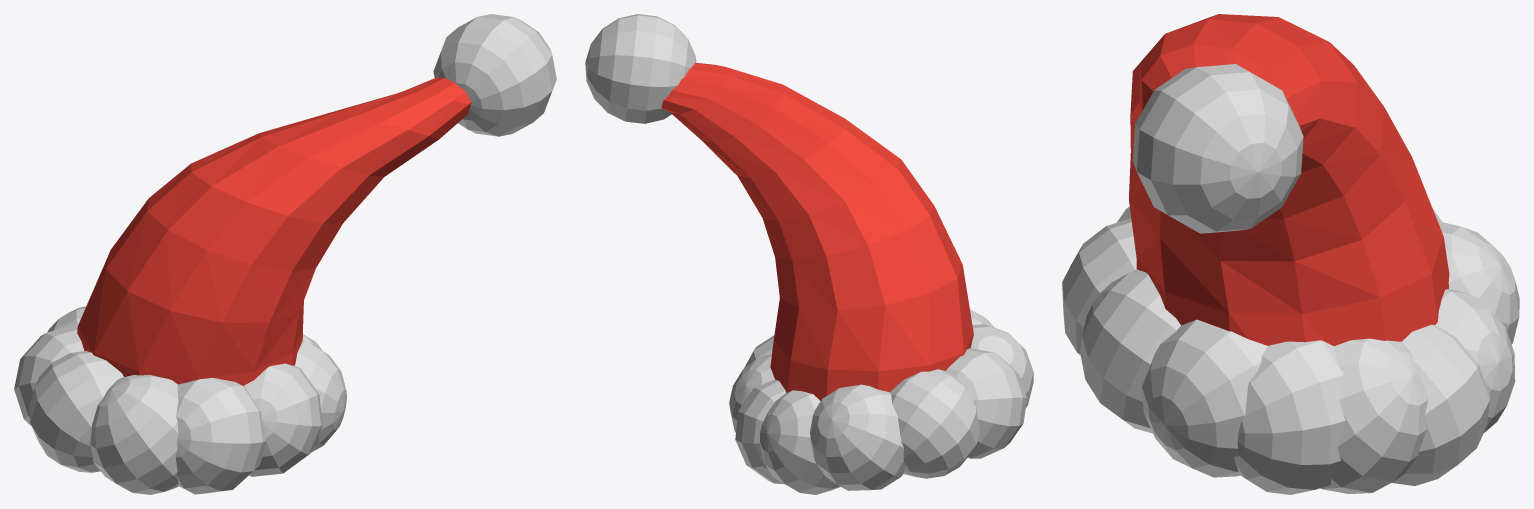
Rendered from hat.obj.
The picture shows the model from 3 angles, left to right: view 1: azimuth 30°, elevation 25°; view 2: azimuth 150°, elevation 25°; view 3: azimuth 270°, elevation 25°; orthographic projection. The views are drawn at different scales.
Visible parts, largest first — view 1: group846075032, group1528424523, group1271948427, group1265075714, group477711915, group1012133554, group1497492472, group418870517; view 2: group846075032, group1528424523, group2085016414, group418870517, group477711915, group394630915, group107039684, group1271948427, group1859609566; view 3: group846075032, group1528424523, group230855003, group1497492472, group1859609566, group1012133554, group107039684, group394630915, group1265075714, group2085016414.
Part boxes in pixels (<box>): group846075032: <box>77,77,471,385</box>; group1528424523: <box>433,14,556,136</box>; group1271948427: <box>90,374,178,494</box>; group1265075714: <box>175,378,266,494</box>; group477711915: <box>28,351,123,472</box>; group1012133554: <box>244,363,322,476</box>; group1497492472: <box>295,340,346,452</box>; group418870517: <box>14,324,84,425</box>; group846075032: <box>661,63,973,400</box>; group1528424523: <box>585,14,696,123</box>; group2085016414: <box>810,384,904,490</box>; group418870517: <box>890,369,979,478</box>; group477711915: <box>946,348,1026,458</box>; group394630915: <box>759,390,840,494</box>; group107039684: <box>735,379,786,484</box>; group1271948427: <box>971,324,1033,407</box>; group1859609566: <box>729,354,774,432</box>; group846075032: <box>1129,14,1449,346</box>; group1528424523: <box>1132,64,1303,233</box>; group230855003: <box>1234,340,1345,494</box>; group1497492472: <box>1142,319,1267,477</box>; group1859609566: <box>1320,338,1427,493</box>; group1012133554: <box>1080,269,1180,433</box>; group107039684: <box>1392,324,1489,485</box>; group394630915: <box>1435,289,1515,432</box>; group1265075714: <box>1062,218,1136,355</box>; group2085016414: <box>1437,221,1519,344</box>.
Bounding box in the file's own units: 2.33 × 1.83 × 1.35.
